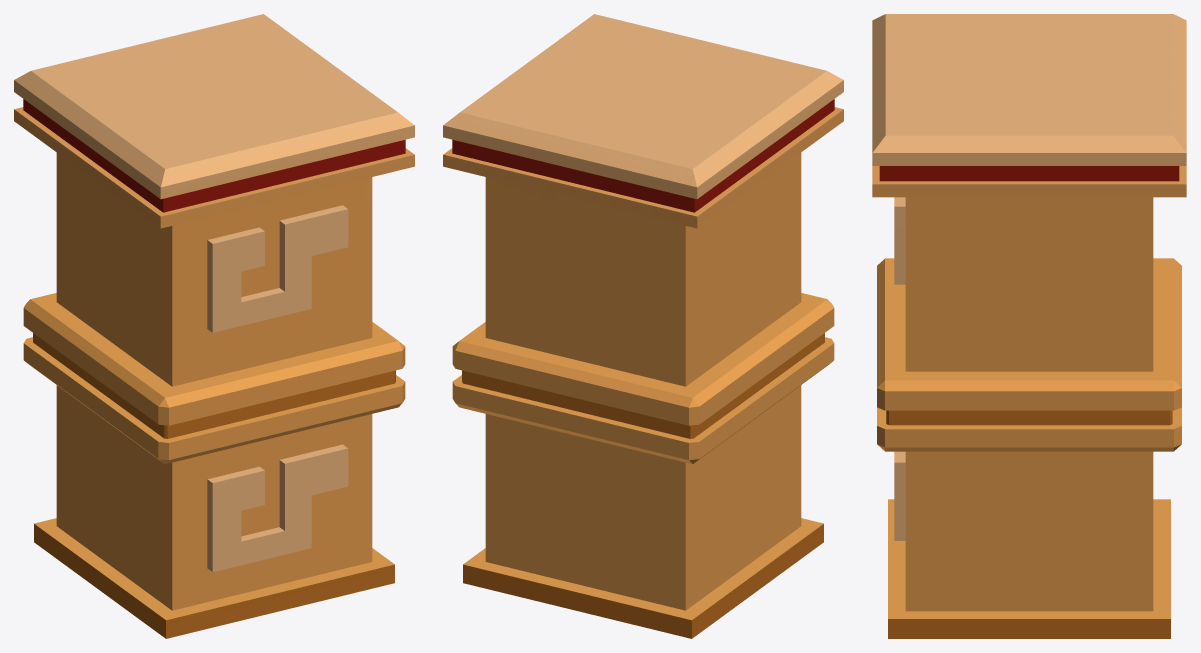
File: PilarE.glb
The picture shows the model from 3 angles, left to right: view 1: azimuth 30°, elevation 25°; view 2: azimuth 150°, elevation 25°; view 3: azimuth 270°, elevation 25°; orthographic projection. The views are drawn at different scales.
Visible parts, largest first — view 1: PilarE; view 2: PilarE; view 3: PilarE.
Part boxes in pixels (x1,y1,x2,y2): PilarE: [14, 14, 414, 638]; PilarE: [443, 14, 843, 638]; PilarE: [872, 14, 1186, 638].
Size of the model in its own units: 5.08 by 9 by 5.08.
1 material, 1 textured.
